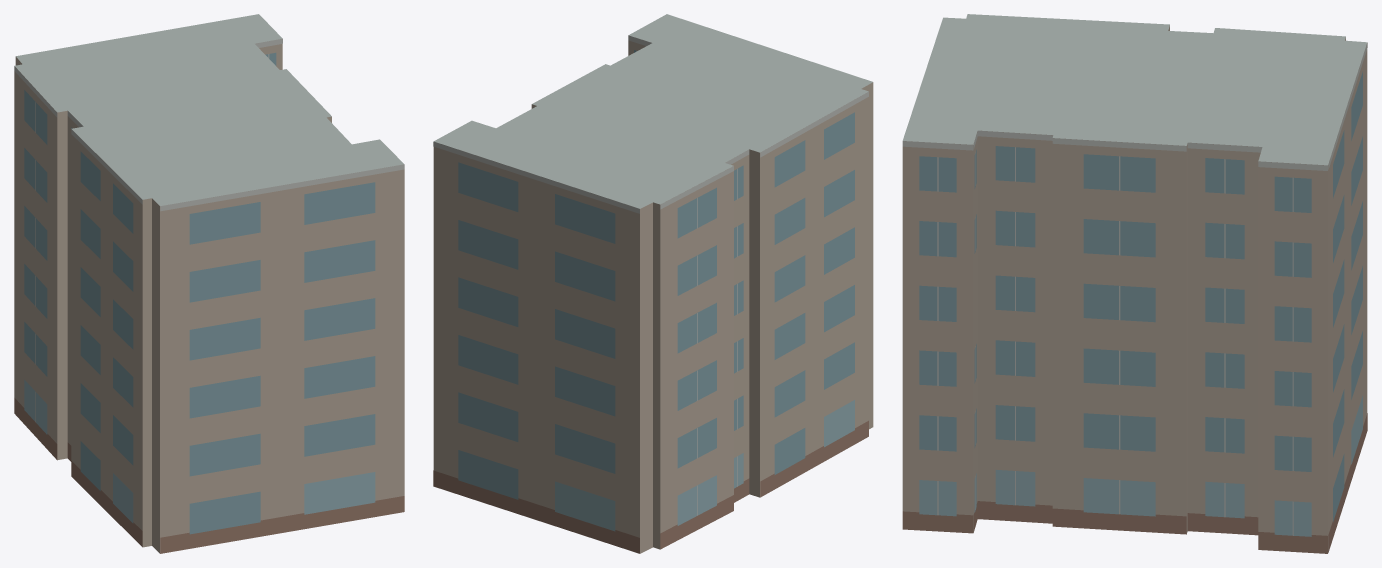
File: survey-upis-32730944.glb
3 renders of one model, left to right at view 1: azimuth 30°, elevation 25°; view 2: azimuth 150°, elevation 25°; view 3: azimuth 270°, elevation 25°, orthographic. The views are drawn at different scales.
Parts seen in each view (by area): view 1: survey-upis-32730944.tmp; view 2: survey-upis-32730944.tmp; view 3: survey-upis-32730944.tmp.
Boxes of the visible parts, x1,y1,x2,y2 form: survey-upis-32730944.tmp: [14, 14, 404, 553]; survey-upis-32730944.tmp: [433, 14, 873, 553]; survey-upis-32730944.tmp: [902, 14, 1367, 553].
Size of the model in its own units: 13.79 by 16.5 by 17.9.
